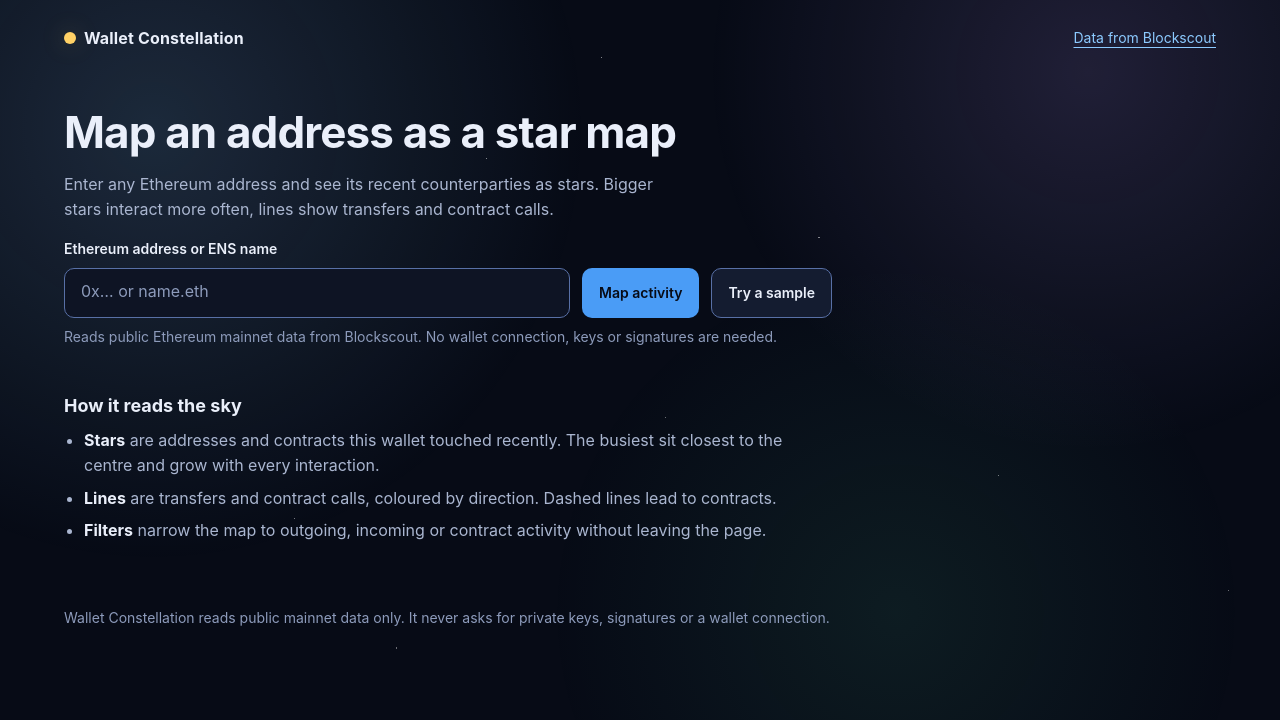
Test: Wallet Constellation › shows an inline error for a malformed address and keeps focus on the field
Type "not-an-address" into the field labelled "Ethereum address or ENS name".
click(317, 293); type("not-an-address")  # box [64,268,570,318]
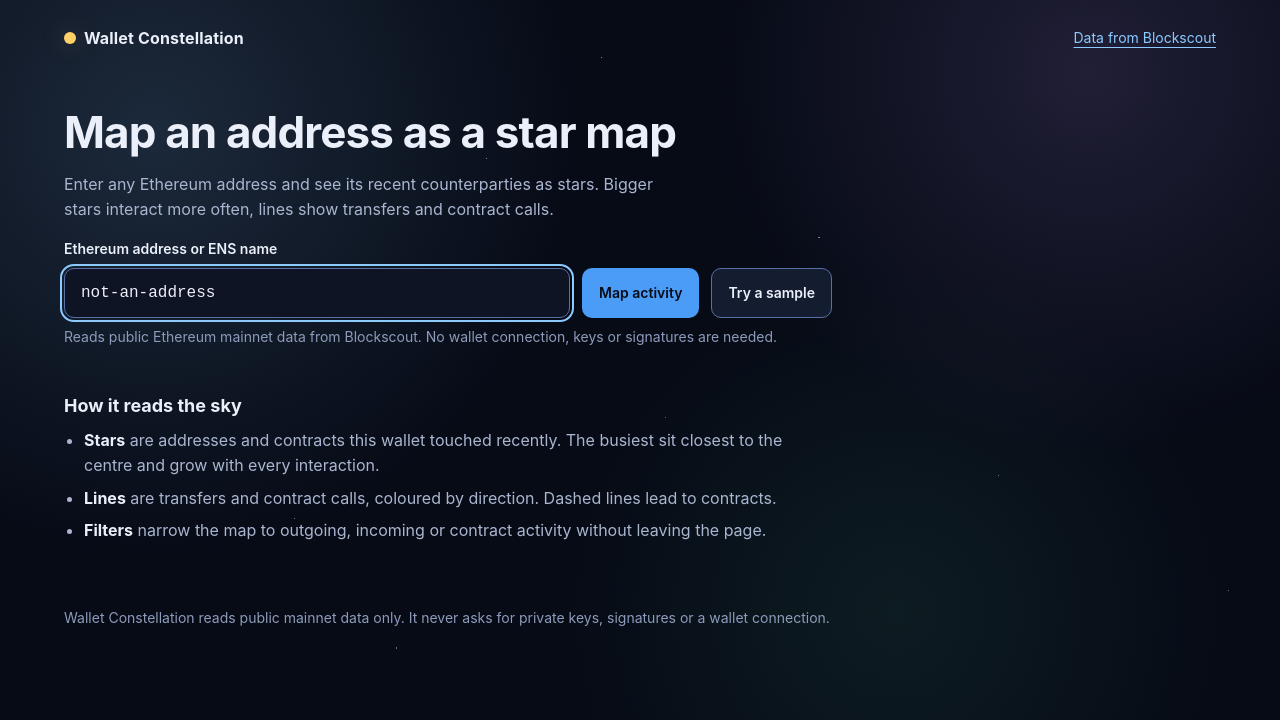
Click the button "Map activity".
click(641, 293)  # box [582,268,699,318]
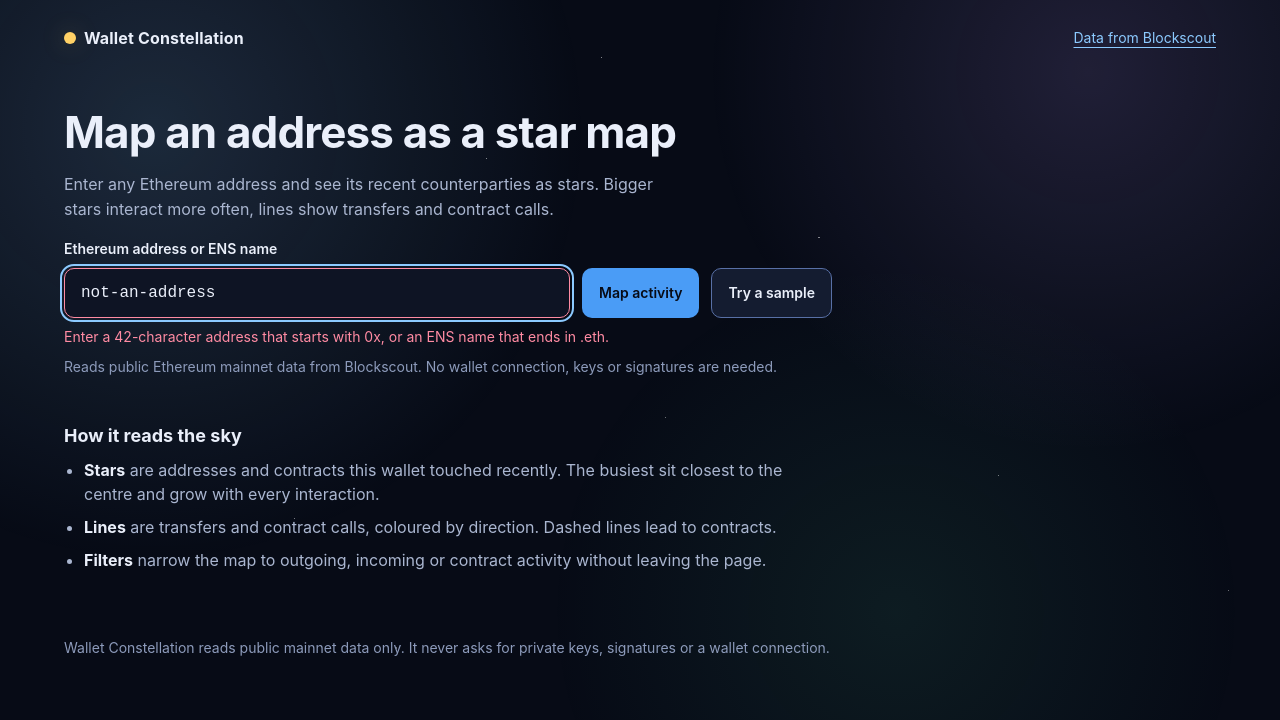
Now the message shows "Enter a 42-character address", box [64,328,609,346]
